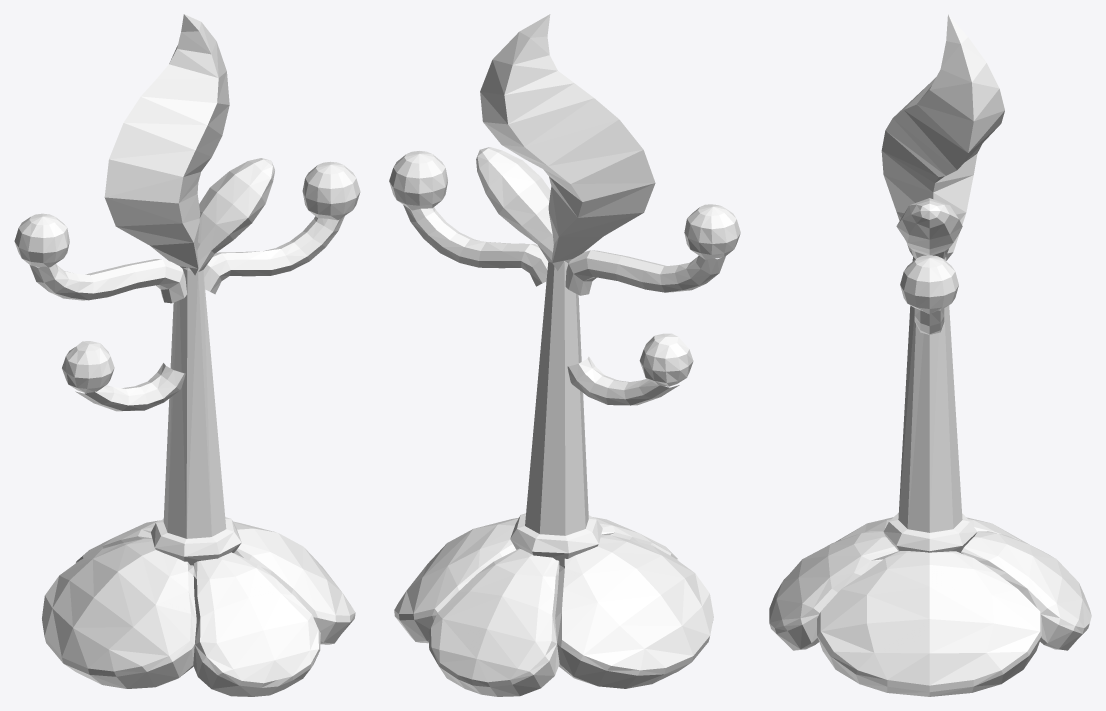
Rendered from g_f_hanger.glb.
3 renders of one model, left to right at view 1: azimuth 30°, elevation 25°; view 2: azimuth 150°, elevation 25°; view 3: azimuth 270°, elevation 25°, orthographic. The views are drawn at different scales.
Visible parts, largest first — view 1: geometry_0; view 2: geometry_0; view 3: geometry_0.
Boxes of the visible parts, box(x1,y1,x2,y2) form: geometry_0: box(14, 14, 360, 696); geometry_0: box(389, 14, 740, 696); geometry_0: box(769, 14, 1091, 696).
Bounding box in the file's own units: 0.103 × 0.1816 × 0.0854.
Materials: 1 (1 with a texture image).
